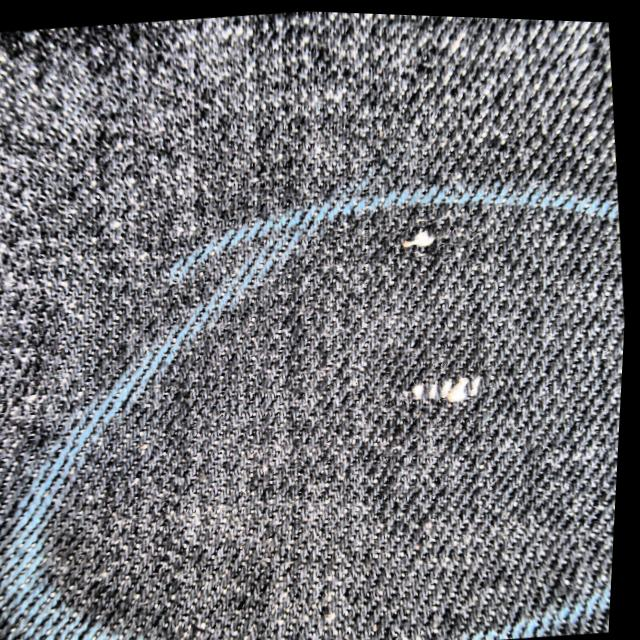Hole: (385, 354, 507, 419), (384, 210, 457, 270)
